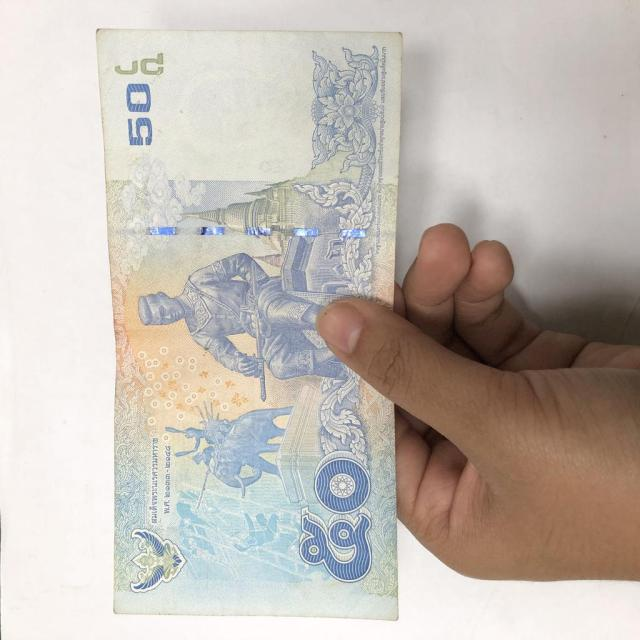THAI50: (94, 28, 404, 626)
